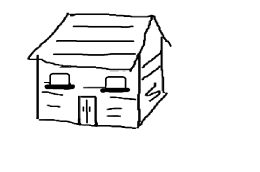door: (75, 93, 100, 132)
open_window: (98, 73, 132, 96), (45, 70, 76, 93)
roof: (26, 12, 172, 72)
wall: (34, 50, 144, 131)
